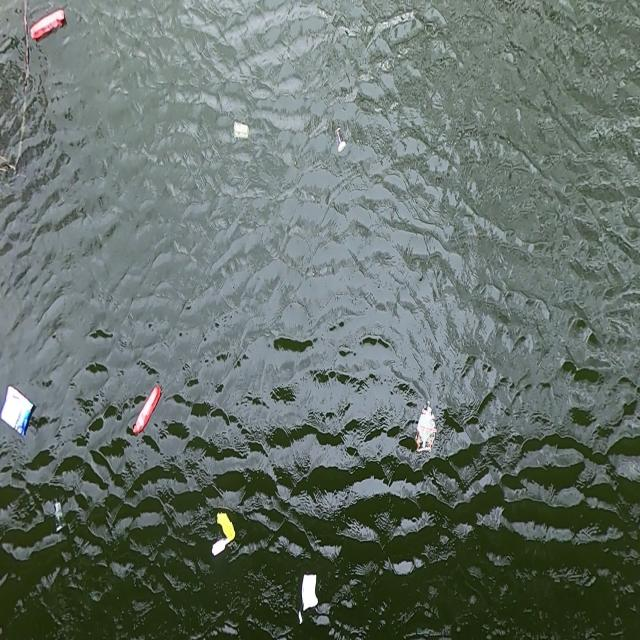Autre plastique: (0, 377, 39, 445)
Non plastique: (231, 114, 252, 144), (332, 123, 350, 157)
